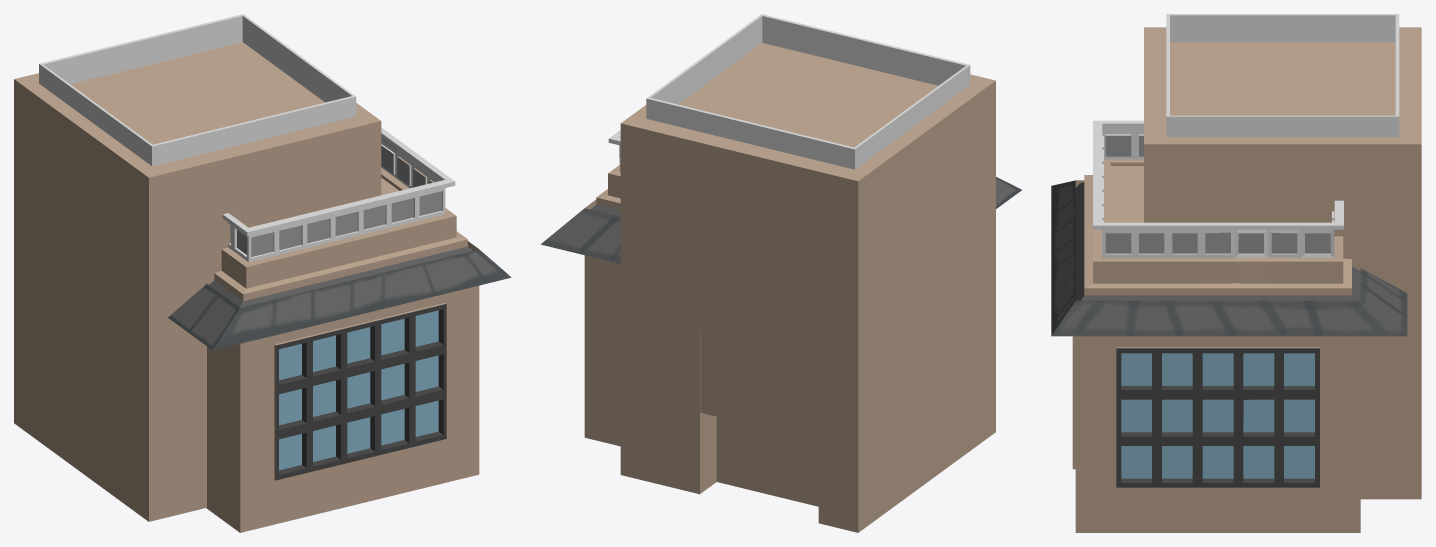
Rendered from random building 1 (1).fbx.
3 renders of one model, left to right at view 1: azimuth 30°, elevation 25°; view 2: azimuth 150°, elevation 25°; view 3: azimuth 270°, elevation 25°, orthographic. The views are drawn at different scales.
Visible parts, largest first — view 1: Cube, Cube.002; view 2: Cube; view 3: Cube, Cube.002.
Boxes of the visible parts, x1,y1,x2,y2 form: Cube: (14,14,511,532); Cube.002: (222,127,455,236); Cube: (540,14,1021,532); Cube: (1051,14,1421,532); Cube.002: (1093,120,1343,229).
Bounding box in the file's own units: 266 × 292 × 260.
